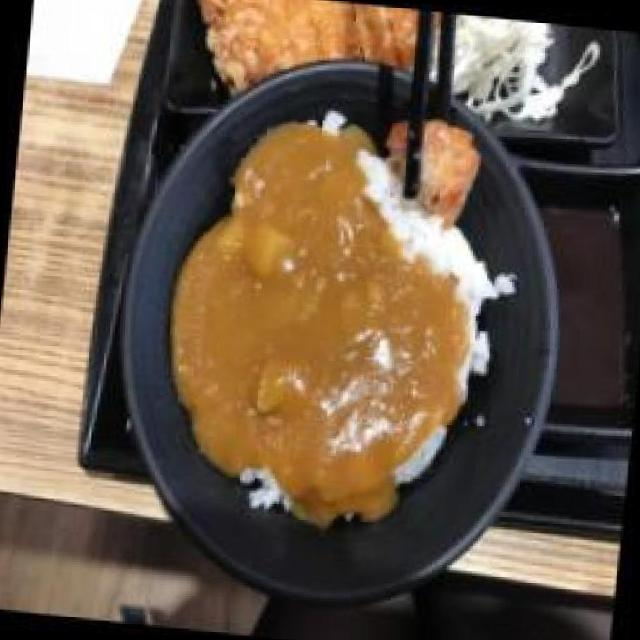curry: (189, 121, 477, 500)
